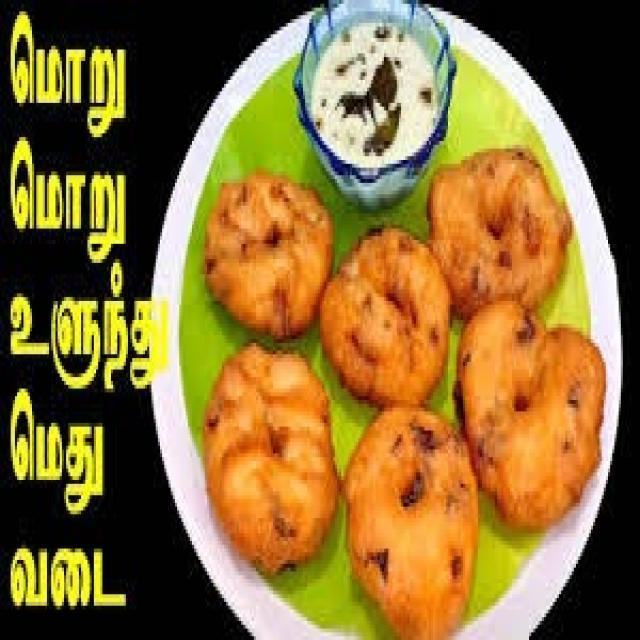medu vadai: (451, 285, 609, 538), (343, 403, 479, 637), (202, 342, 337, 575), (427, 146, 574, 321), (321, 228, 451, 411), (204, 172, 333, 341)
